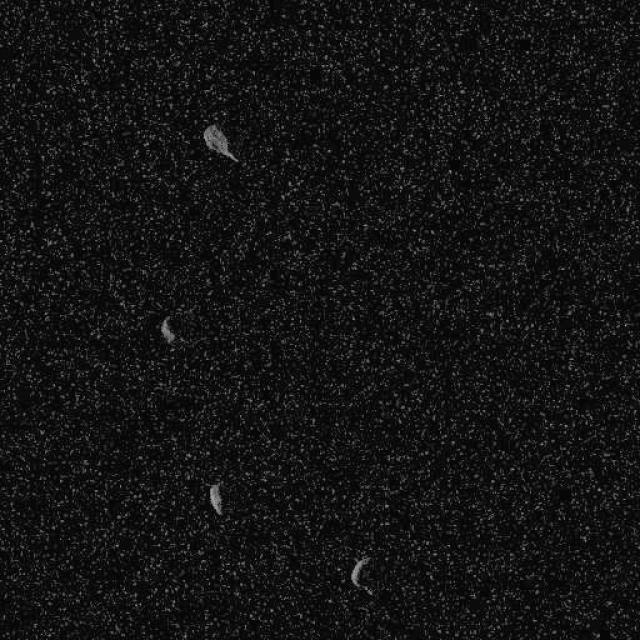D2: (201, 122, 239, 164), (349, 554, 376, 598), (159, 314, 176, 345), (208, 483, 224, 515)
